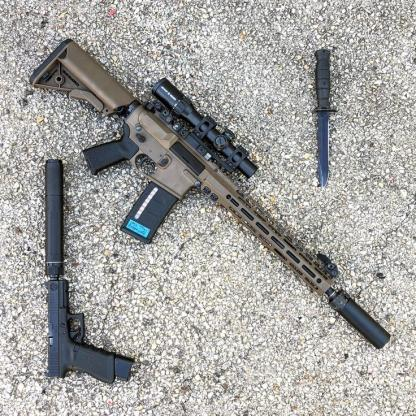Gun: (28, 37, 393, 352)
Knife: (312, 47, 337, 189)
Pistol: (42, 159, 137, 386)
